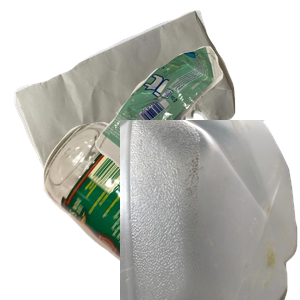glass: (41, 120, 281, 300)
paper: (12, 10, 240, 176)
plastic: (120, 120, 300, 300)
trash: (92, 44, 300, 211)
